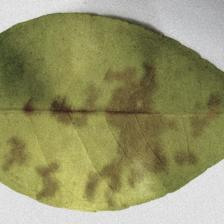black spot: (42, 70, 202, 172)
